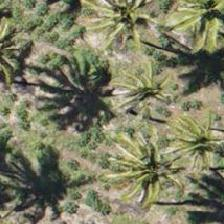coconut_tree: (92, 41, 182, 131), (104, 124, 194, 214), (157, 95, 223, 185), (72, 0, 162, 59), (159, 0, 223, 64)
